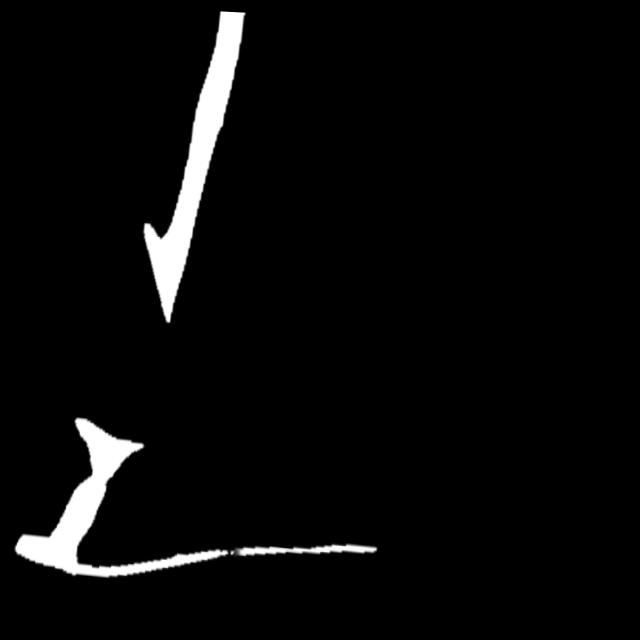inf: (220, 533, 256, 567)
